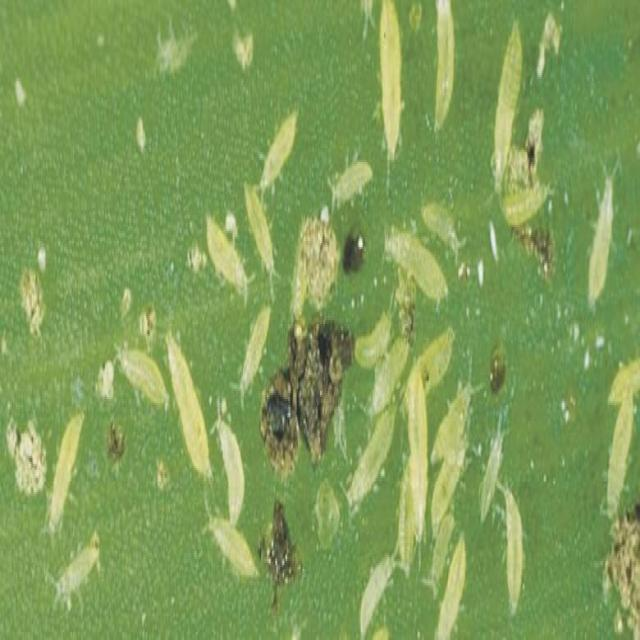Thrip-Larva-: (163, 330, 215, 497), (487, 10, 528, 199), (346, 395, 403, 527), (580, 163, 623, 329), (43, 402, 91, 549), (373, 7, 410, 170), (383, 227, 452, 311), (600, 375, 636, 531), (46, 526, 107, 616), (430, 358, 479, 468), (231, 296, 275, 412), (324, 138, 382, 225), (206, 512, 262, 599), (204, 212, 254, 309), (240, 175, 281, 292), (490, 165, 552, 242), (114, 332, 170, 416), (428, 0, 461, 142), (256, 100, 303, 195), (475, 414, 513, 530), (215, 407, 251, 528), (350, 293, 399, 377), (500, 474, 528, 618), (367, 331, 408, 428), (434, 523, 467, 638), (354, 547, 398, 631), (422, 188, 466, 265), (428, 507, 458, 605), (399, 450, 420, 572)
